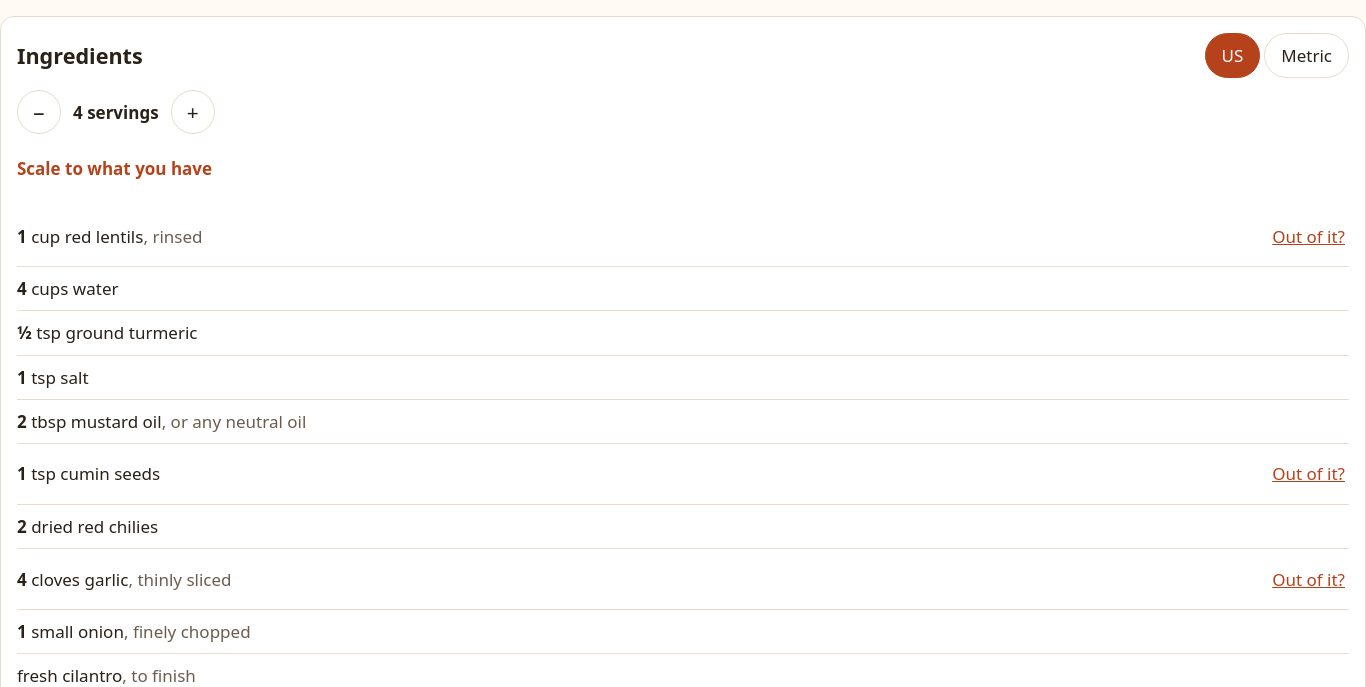
Test case: Scale to what you have › accepts a weight for an ingredient the recipe measures in cups
Step 1. Click the heading "Scale to what you have" → (115, 168), box [17,157,212,180]
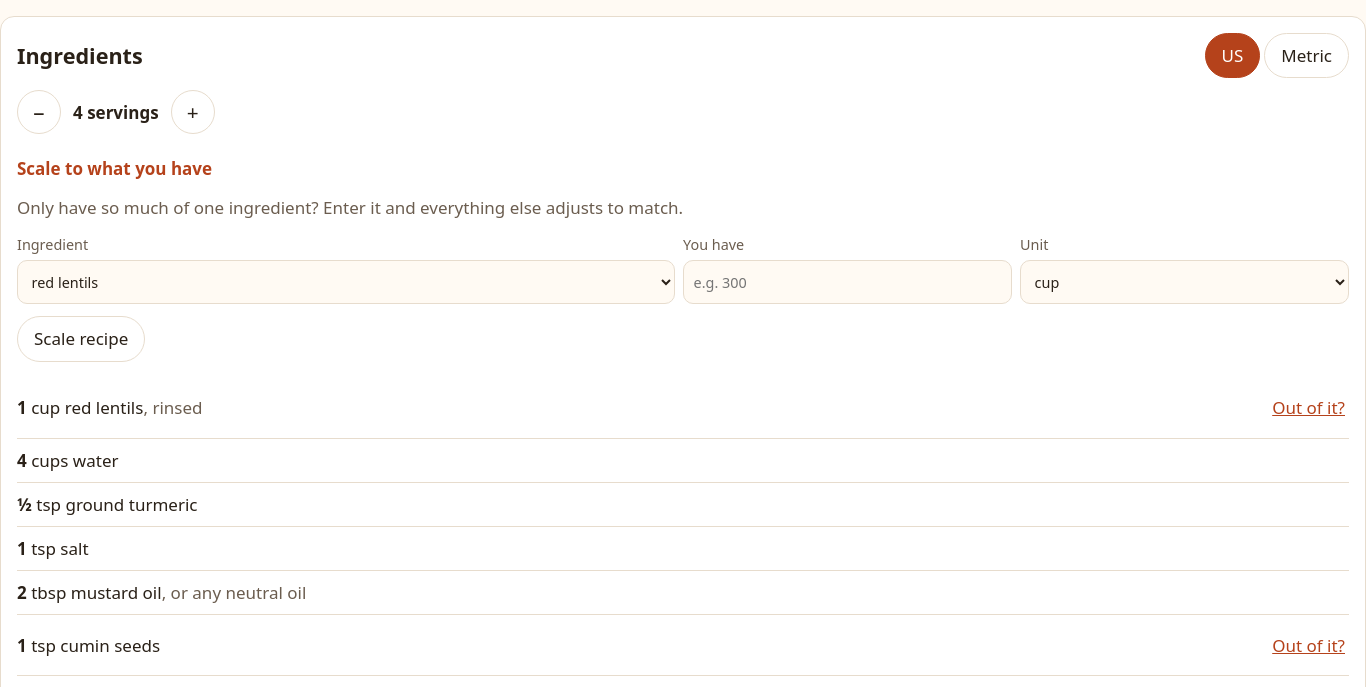
Step 2. Select "red lentils" in the dropdown labelled "Ingredient" → (346, 282), box [17,260,675,304]
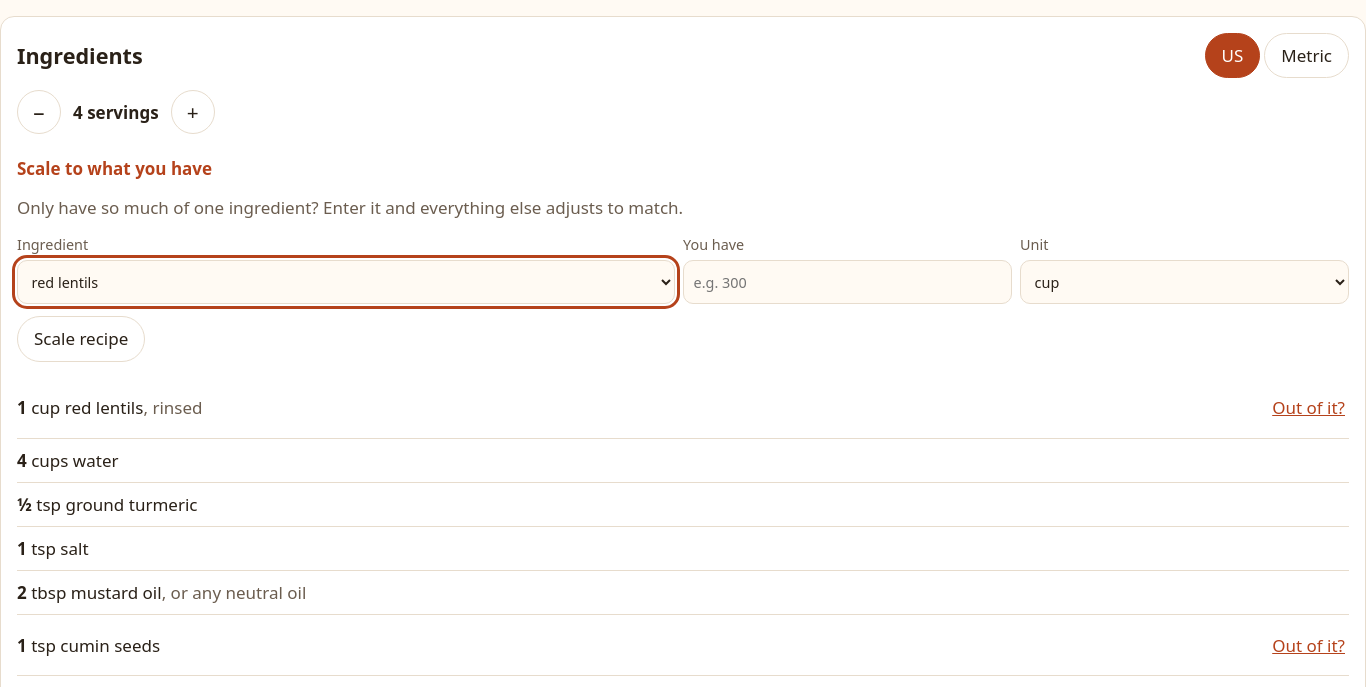
Step 3. Type "285" into the field labelled "You have" → (848, 282), box [683,260,1012,304]
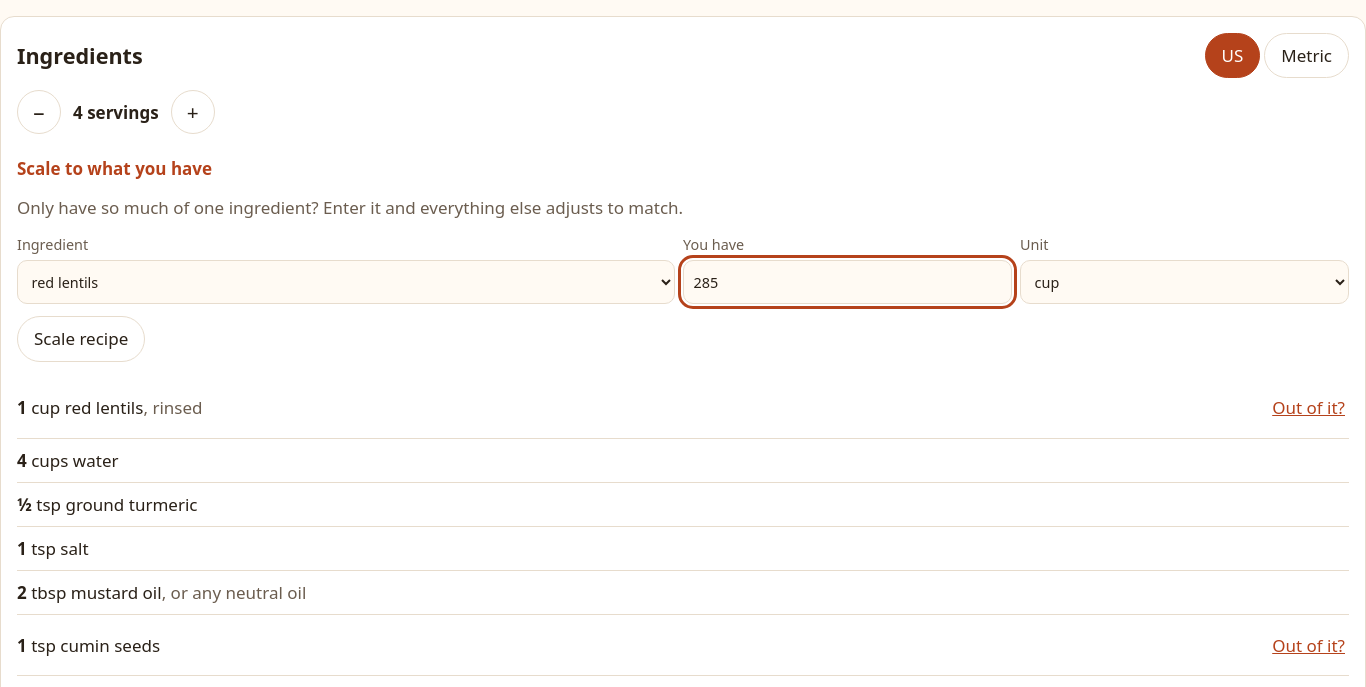
Step 4. Select "g" in the dropdown labelled "Unit" → (1184, 282), box [1020,260,1349,304]
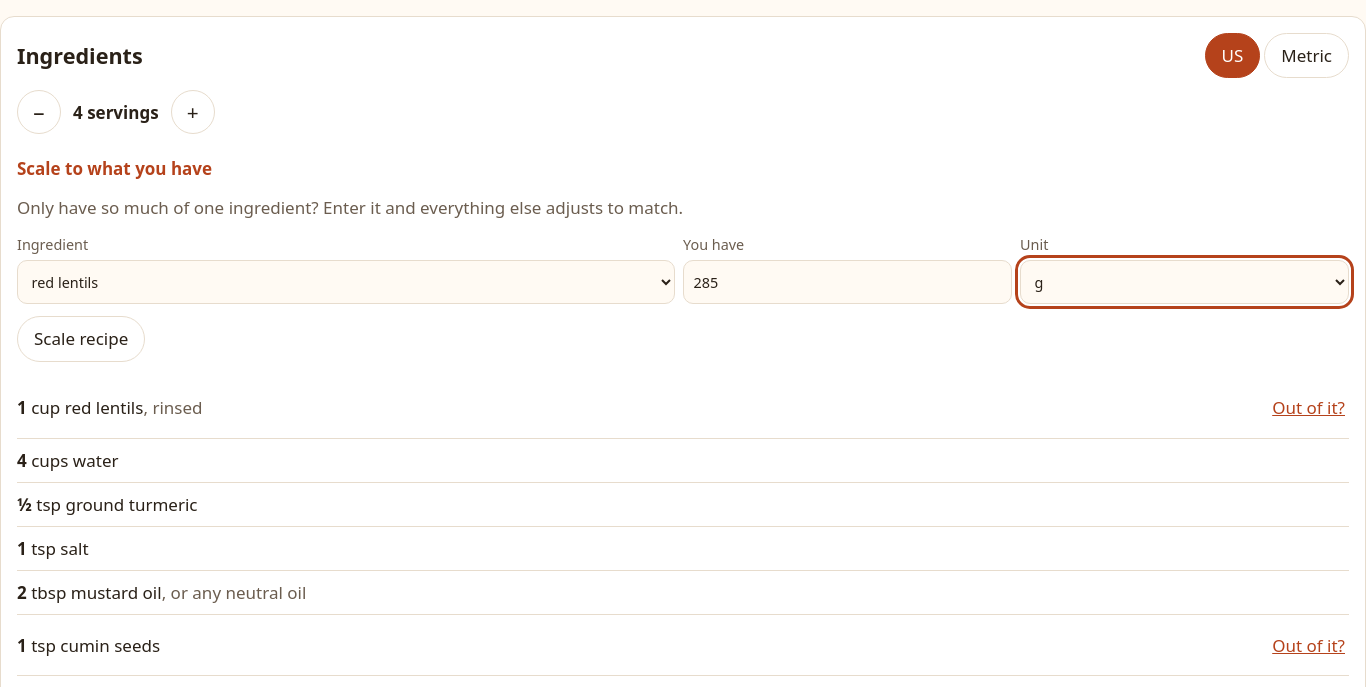
Step 5. Click the button "Scale recipe" → (81, 339), box [17,316,145,362]
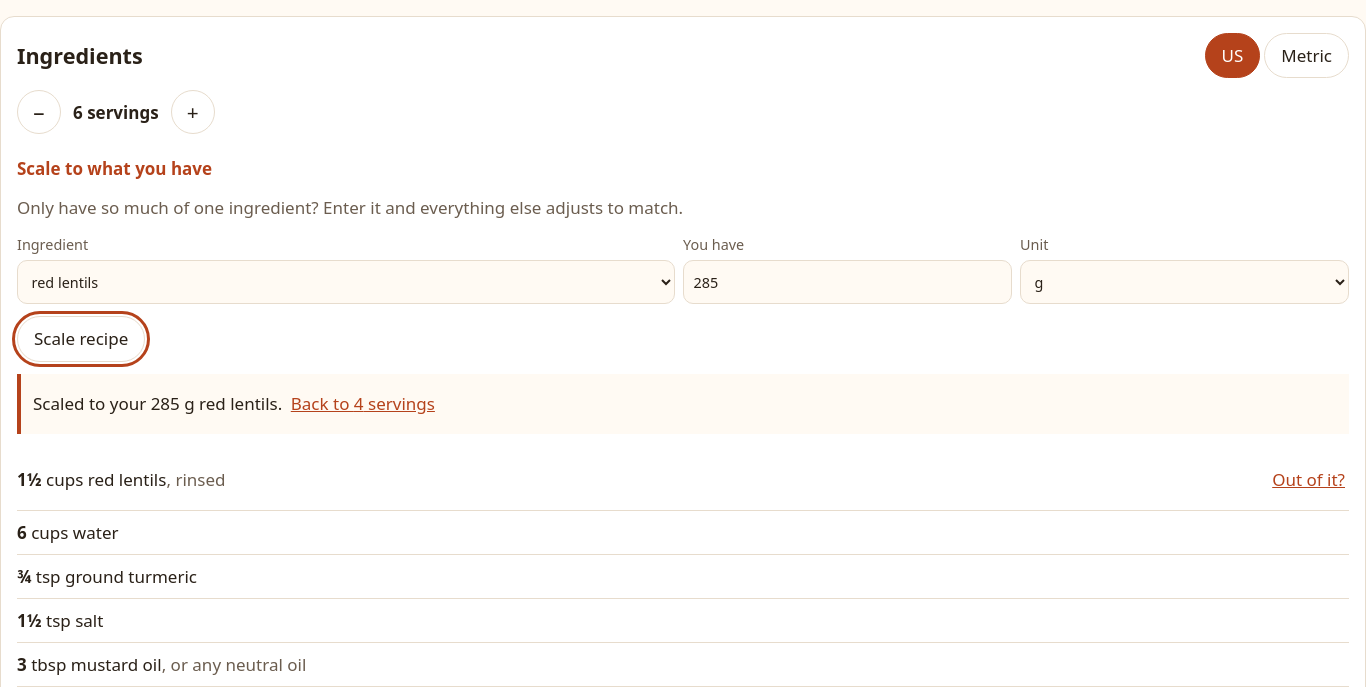
Now the text "6 servings" is shown, box [73,99,159,126]
Now the list item "1½ cups red lentils, rinsed Out of it?" is shown, box [17,450,1349,511]
